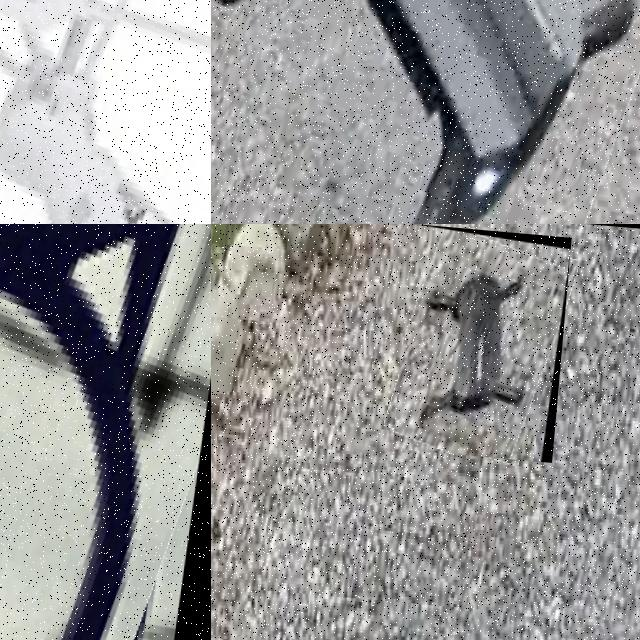drone: (211, 0, 640, 224), (0, 224, 211, 640), (0, 0, 211, 224), (392, 224, 571, 462)
